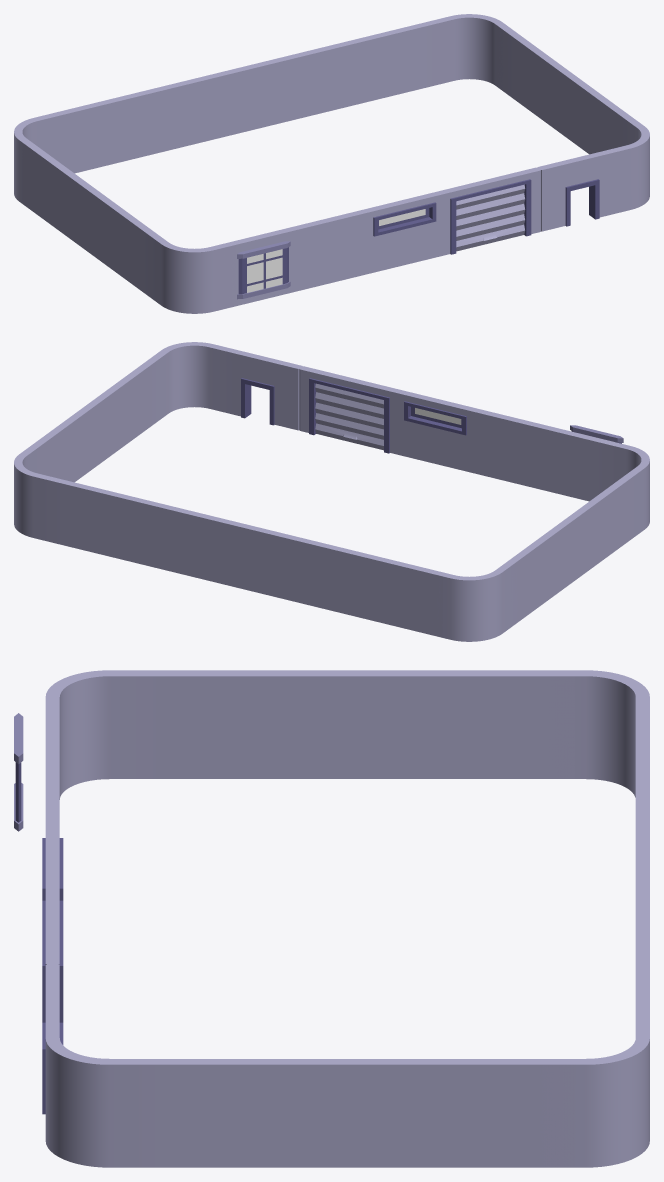
Rendered from Testing.fbx.
The picture shows the model from 3 angles, top to bottom: view 1: azimuth 30°, elevation 25°; view 2: azimuth 150°, elevation 25°; view 3: azimuth 270°, elevation 25°; orthographic projection. The views are drawn at different scales.
Visible parts, largest first — view 1: wall (×7), wall_cornerBevel (×4), doorway_wideGarageRoll, window_garage, wall_glassSections, doorway_wide; view 2: wall (×7), wall_cornerBevel (×4), doorway_wideGarageRoll, window_garage, doorway_wide; view 3: wall (×5), wall_cornerBevel (×4), doorway_wideGarageRoll, window_garage, wall_glassSections.
Boxes of the visible parts, bbox=[...] form: wall (×7): bbox=[18, 21, 629, 308]; wall_cornerBevel (×4): bbox=[14, 14, 649, 313]; doorway_wideGarageRoll: bbox=[432, 167, 540, 255]; window_garage: bbox=[359, 191, 444, 274]; wall_glassSections: bbox=[237, 241, 290, 299]; doorway_wide: bbox=[562, 179, 602, 226]; wall (×7): bbox=[18, 347, 630, 637]; wall_cornerBevel (×4): bbox=[14, 342, 649, 641]; doorway_wideGarageRoll: bbox=[298, 366, 407, 454]; window_garage: bbox=[396, 390, 481, 473]; doorway_wide: bbox=[237, 373, 278, 425]; wall (×5): bbox=[45, 670, 649, 1167]; wall_cornerBevel (×4): bbox=[45, 670, 649, 1167]; doorway_wideGarageRoll: bbox=[42, 878, 63, 1022]; window_garage: bbox=[42, 823, 63, 900]; wall_glassSections: bbox=[14, 713, 23, 831].
Size of the model in its own units: 82.25 by 10 by 56.04.
